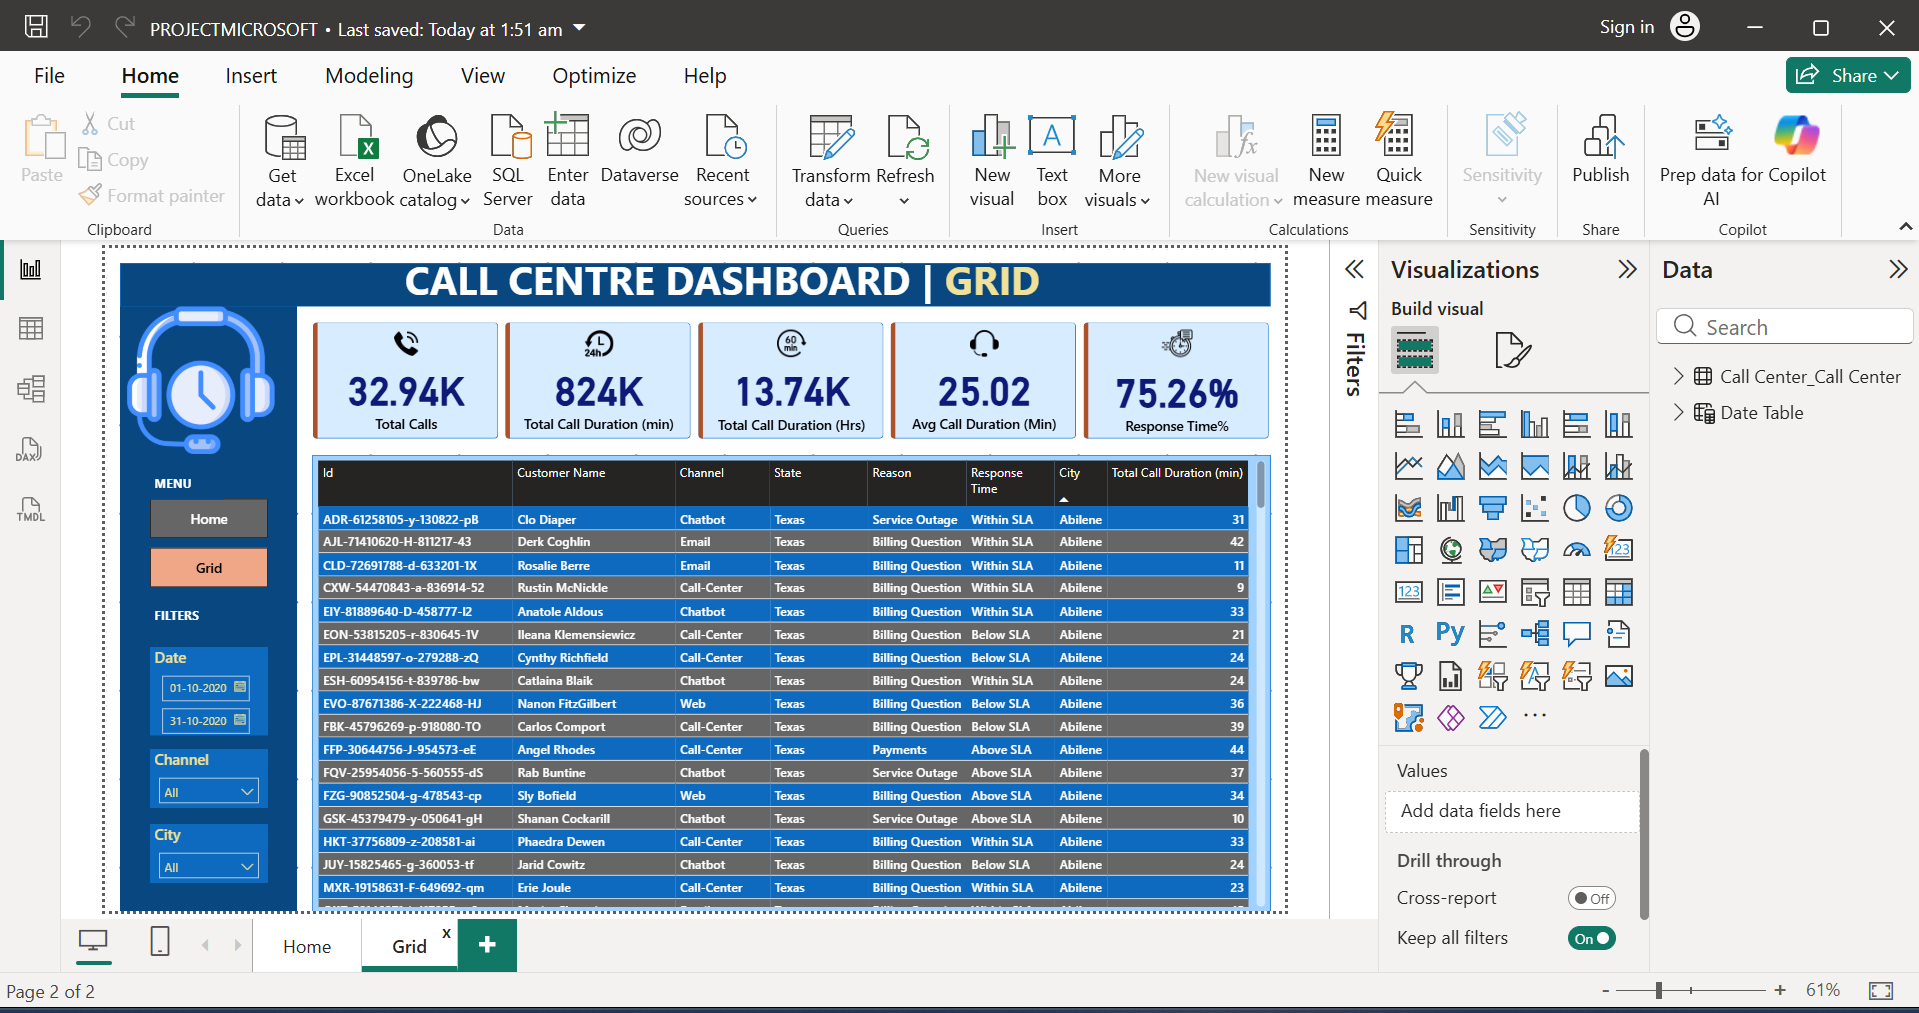

What the dashboard file says about the page in this screenshot:
{"tool":"powerbi","page":{"name":"Grid","canvas":[1280,720],"ordinal":1},"visuals":[{"type":"shape","box":[16,16,1248,48],"z":0},{"type":"shape","box":[16,64,192,656],"z":1000},{"type":"cardVisual","fields":{"Data":["Call Center_Call Center.Total Calls","Call Center_Call Center.Total Call Duration (min)","Call Center_Call Center.Total Call Duration (Hrs)","Call Center_Call Center.Avg Call Duration (Min)","Call Center_Call Center.Response Time%"]},"box":[208,64,1072,160],"z":2000},{"type":"textbox","box":[320,0,752,80],"z":3000},{"type":"slicer","title":"Date","fields":{"Values":["Date Table.Date"]},"box":[48,432,128,96],"z":4000},{"type":"slicer","title":"Channel","fields":{"Values":["Call Center_Call Center.Channel"]},"box":[48,544,128,64],"z":5000},{"type":"slicer","title":"City","fields":{"Values":["Call Center_Call Center.City"]},"box":[48,624,128,64],"z":6000},{"type":"image","box":[0,64,208,160],"z":7000},{"type":"tableEx","fields":{"Values":["Call Center_Call Center.Id","Call Center_Call Center.Customer Name","Call Center_Call Center.Channel","Call Center_Call Center.State","Call Center_Call Center.Reason","Call Center_Call Center.Response Time","Call Center_Call Center.City","Call Center_Call Center.Total Call Duration (min)"]},"box":[224,224,1040,496],"z":8000},{"type":"pageNavigator","box":[48,272,128,96],"z":9000},{"type":"textbox","box":[48,384,128,32],"z":10000},{"type":"textbox","box":[48,240,80,32],"z":11000}]}

Visuals, with their boxes on the page's 1280x720 design canvas (x1, y1, x2, y2). These are canvas units, not pixel positions in the 1919x1013 screenshot, which may show the page scaled, cropped or inside an application window:
shape: bbox(16, 16, 1264, 64)
shape: bbox(16, 64, 208, 720)
cardVisual - Call Center_Call Center.Total Calls x Call Center_Call Center.Total Call Duration (min): bbox(208, 64, 1280, 224)
textbox: bbox(320, 0, 1072, 80)
"Date" slicer: bbox(48, 432, 176, 528)
"Channel" slicer: bbox(48, 544, 176, 608)
"City" slicer: bbox(48, 624, 176, 688)
image: bbox(0, 64, 208, 224)
tableEx - Call Center_Call Center.Id x Call Center_Call Center.Customer Name: bbox(224, 224, 1264, 720)
pageNavigator: bbox(48, 272, 176, 368)
textbox: bbox(48, 384, 176, 416)
textbox: bbox(48, 240, 128, 272)
